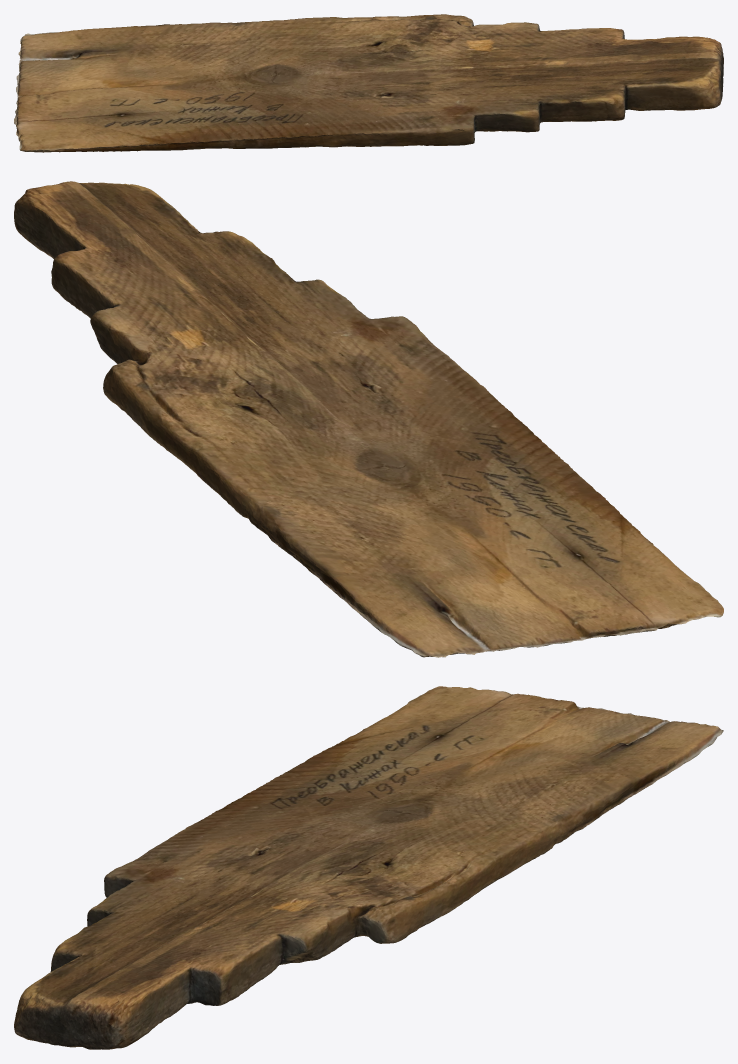
Rendered from ЛМХ.2026.006.glb.
The picture shows the model from 3 angles, top to bottom: view 1: azimuth 30°, elevation 25°; view 2: azimuth 150°, elevation 25°; view 3: azimuth 270°, elevation 25°; orthographic projection. The views are drawn at different scales.
Visible parts, largest first — view 1: world; view 2: world; view 3: world.
Part boxes in pixels (<box>): world: <box>14,14,723,152</box>; world: <box>14,181,723,657</box>; world: <box>14,686,723,1049</box>.
Size of the model in its own units: 0.7827 by 0.0738 by 0.5789.
1 material, 1 textured.
